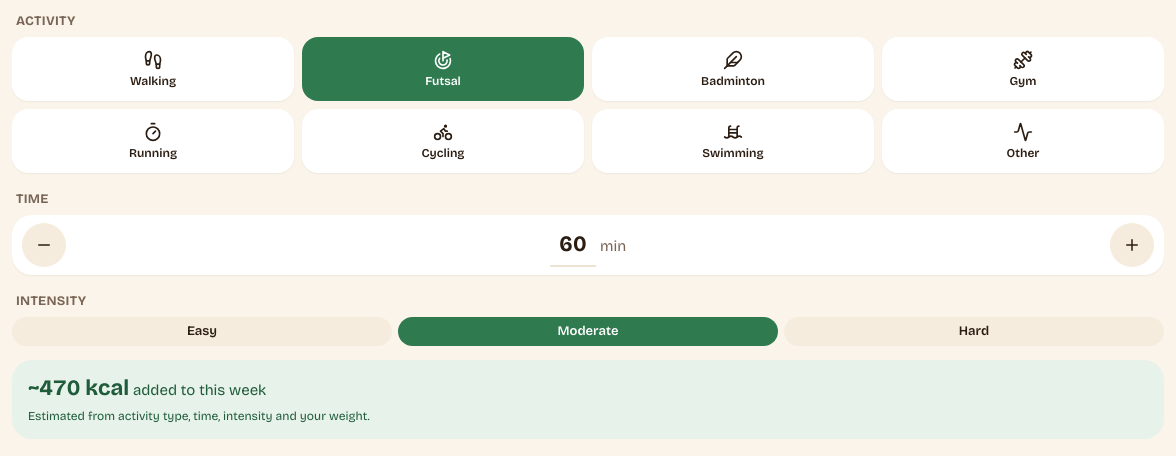
Test: WorkoutForm (C51) › takes typed minutes, steps with ↑/↓ and disables the buttons at the bounds
Replace the text in the field named "Time in minutes" with "300" at (573, 245), box x1=550 y1=223 x2=596 y2=267
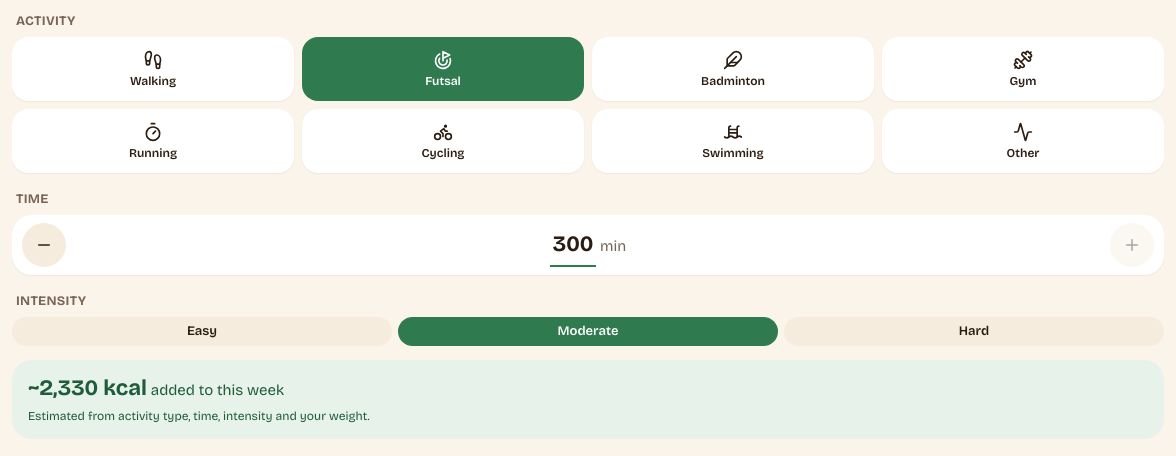
Check: the button named "5 minutes more" is disabled, box x1=1110 y1=223 x2=1154 y2=267
Press Arrowdown
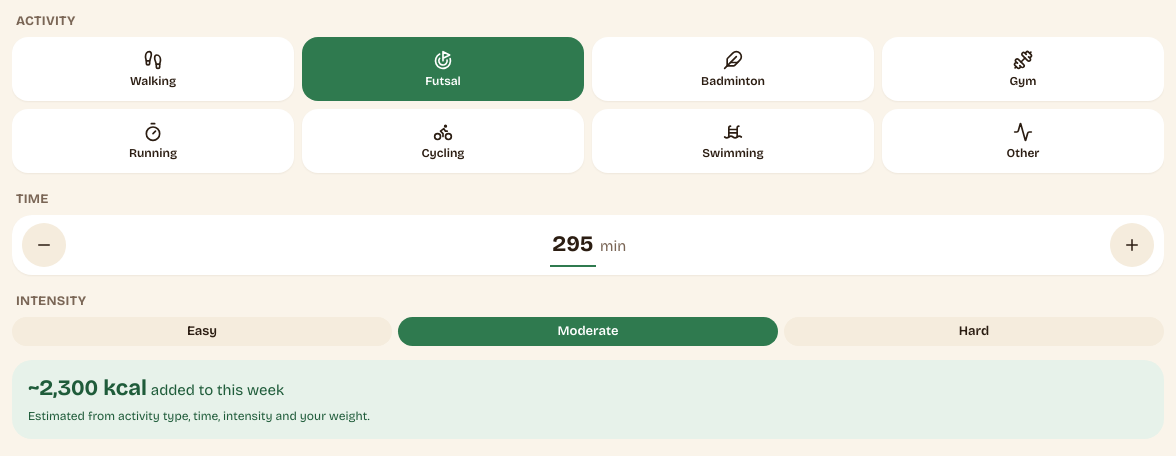
Check: the field named "Time in minutes" holds "295"
Replace the text in the field named "Time in minutes" with "5" at (573, 245), box x1=550 y1=223 x2=596 y2=267
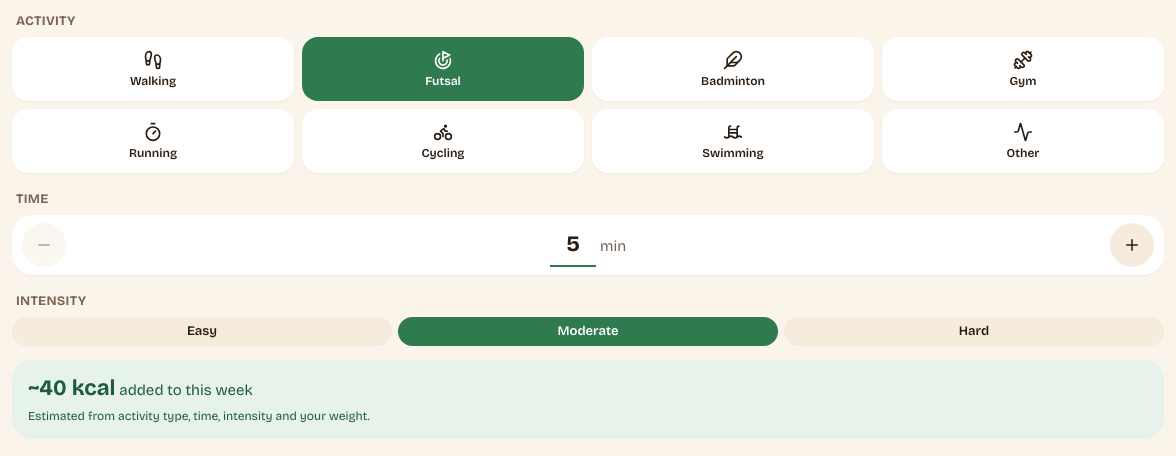
Check: the button named "5 minutes less" is disabled, box x1=22 y1=223 x2=66 y2=267
Check: the button named "5 minutes more" is enabled, box x1=1110 y1=223 x2=1154 y2=267
Replace the text in the field named "Time in minutes" with "4a5" at (573, 245), box x1=550 y1=223 x2=596 y2=267
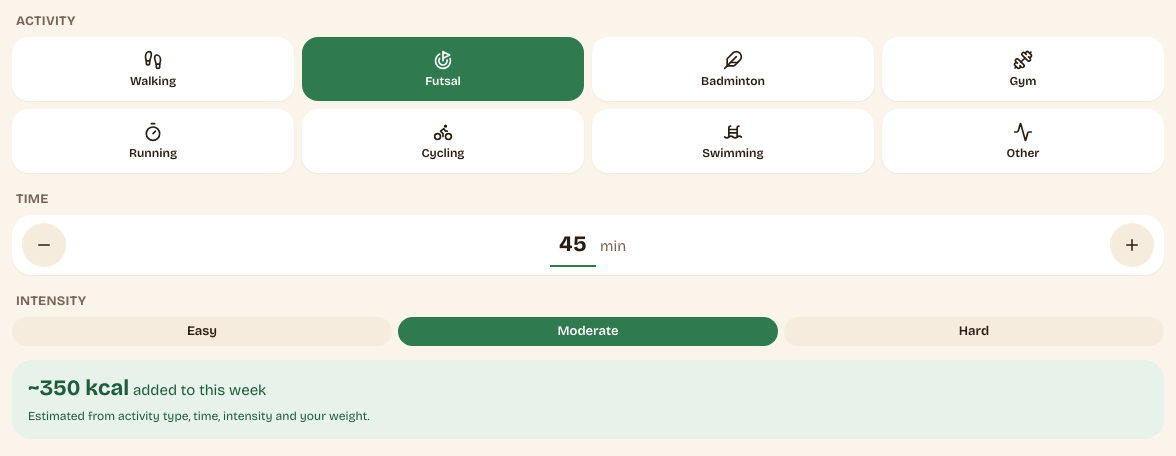
Check: the field named "Time in minutes" holds "45", box x1=550 y1=223 x2=596 y2=267
